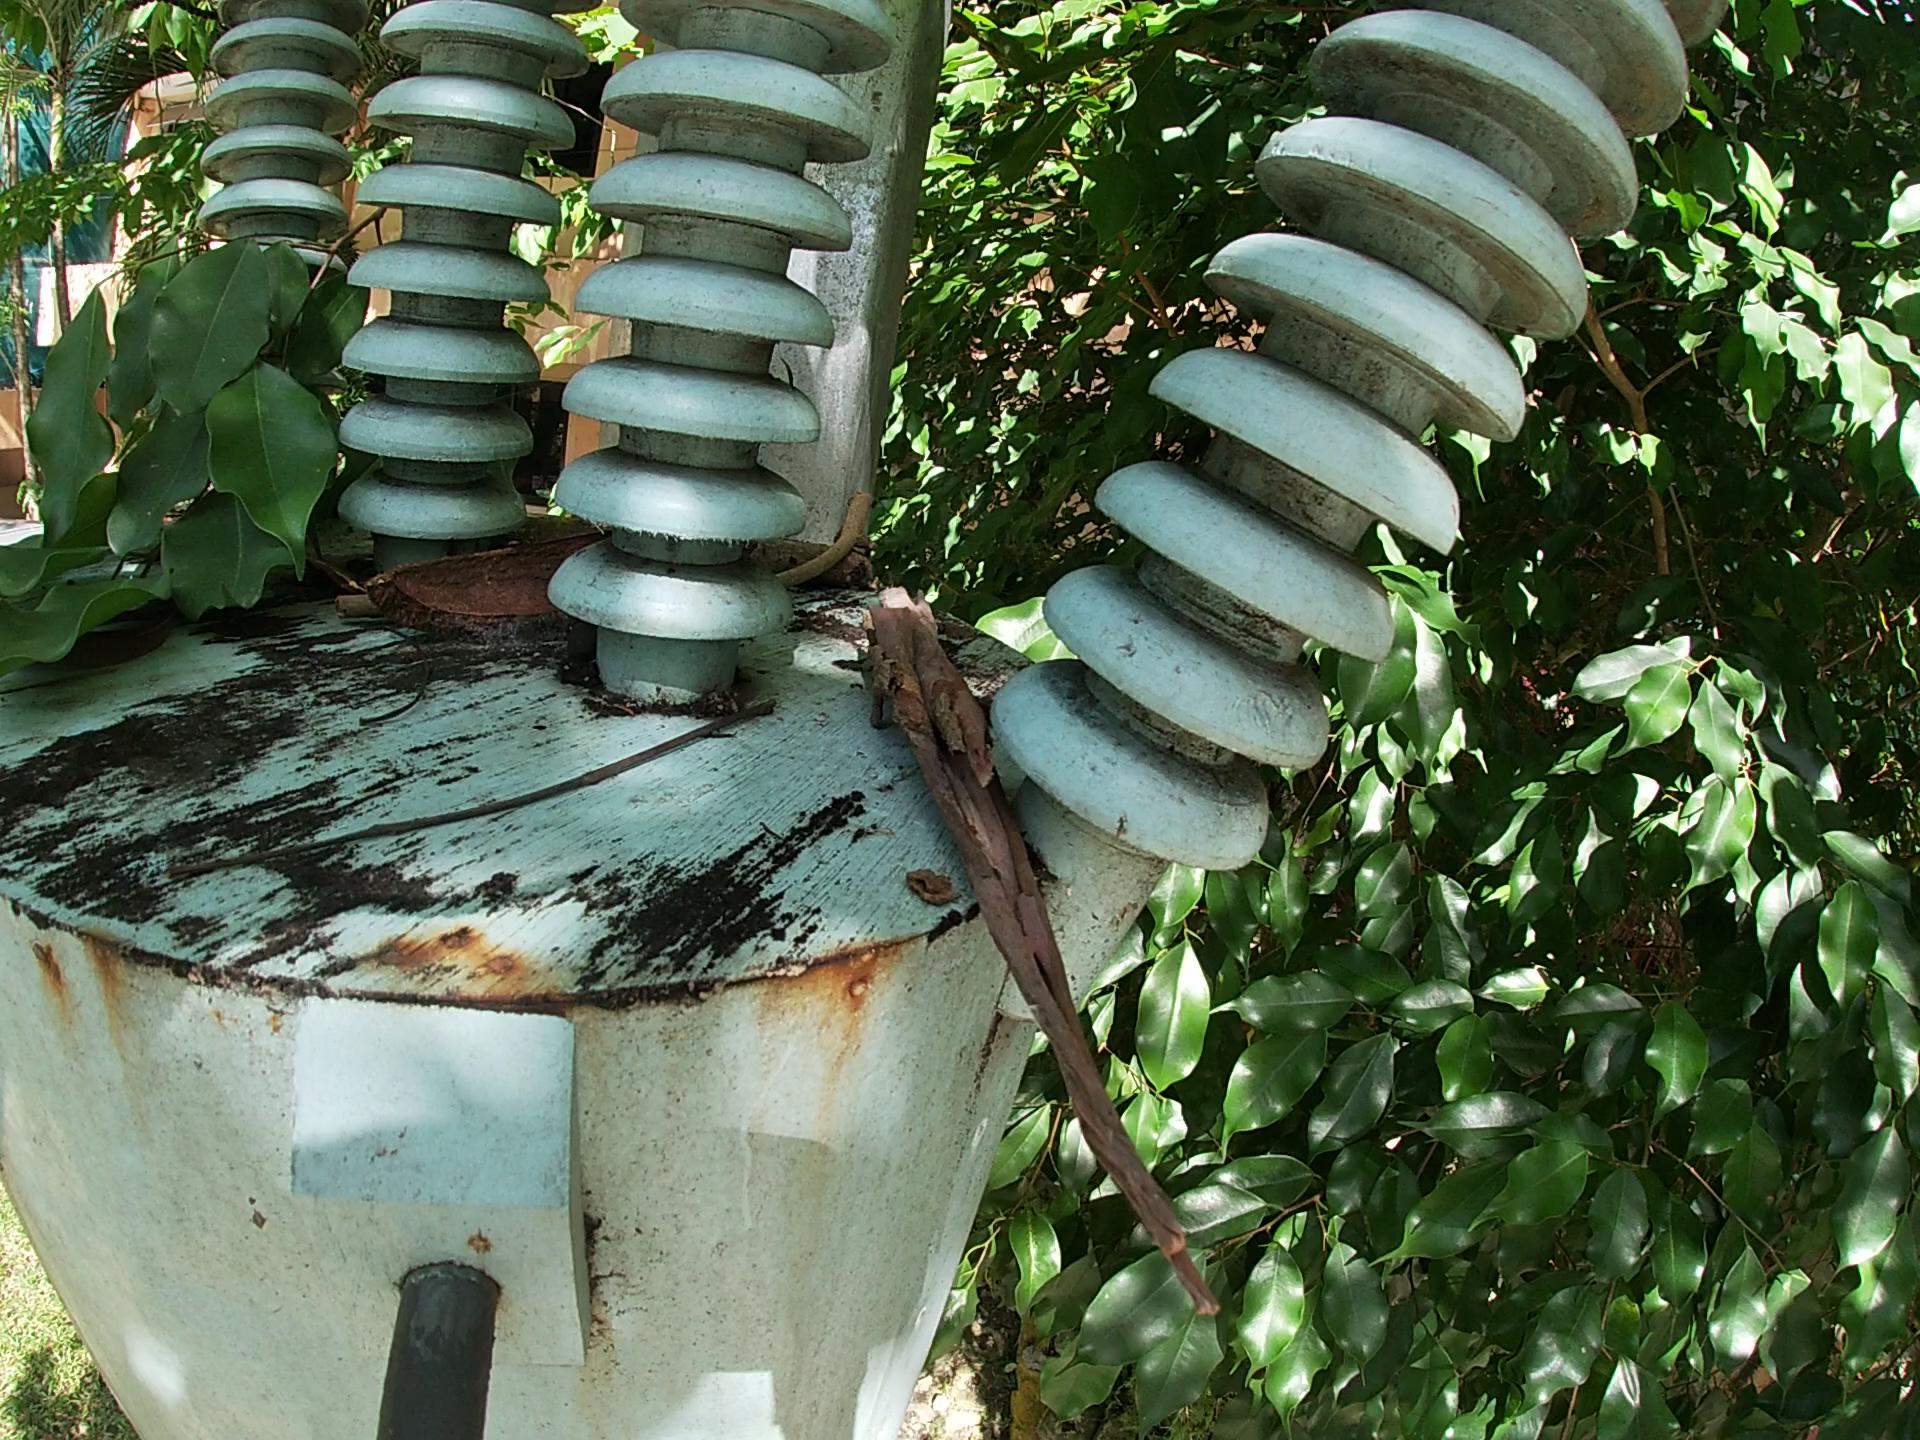branch with leaves: (2, 141, 364, 703)
mahogany fruit: (372, 543, 593, 646)
tree branch: (859, 582, 1234, 1325), (147, 687, 794, 902), (763, 479, 898, 596), (376, 622, 440, 755), (756, 534, 884, 588), (321, 591, 370, 622)
